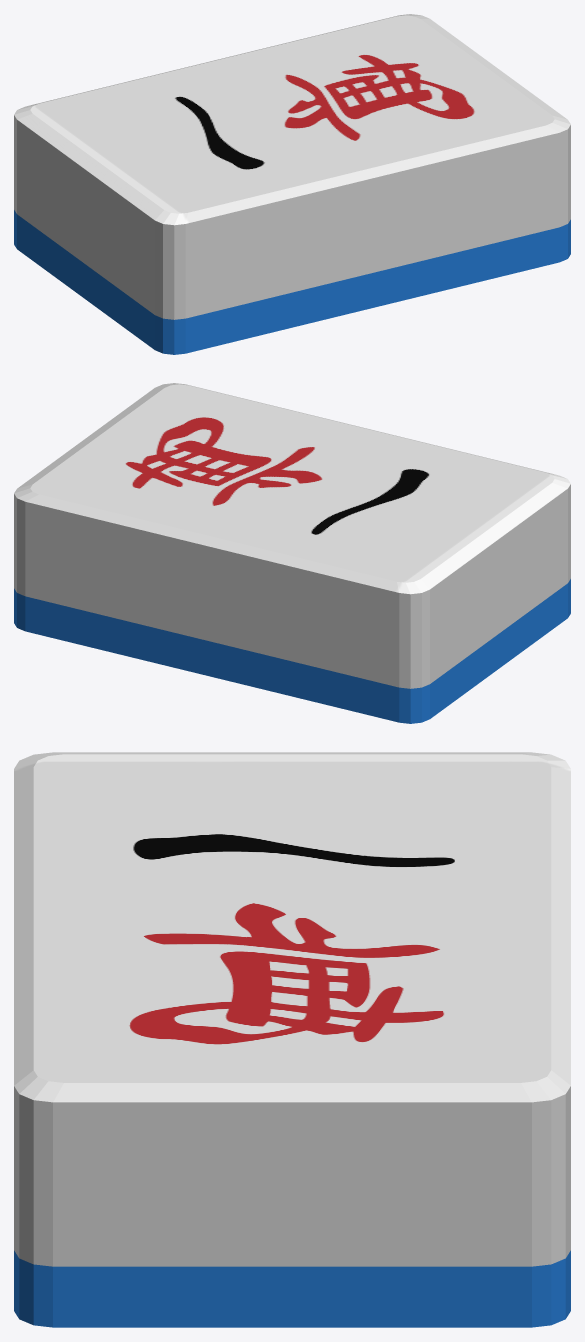
File: fbxPai2.fbx
3 views of the same model, one above another, from view 1: azimuth 30°, elevation 25°; view 2: azimuth 150°, elevation 25°; view 3: azimuth 270°, elevation 25° (orthographic). The views are drawn at different scales.
Parts seen in each view (by area): view 1: Cube; view 2: Cube; view 3: Cube.
Boxes of the visible parts, <box> form: Cube: <box>14,14,570,354</box>; Cube: <box>14,383,570,723</box>; Cube: <box>14,752,570,1327</box>.
Size of the model in its own units: 600 by 194 by 404.
Materials: 3 (1 with a texture image).
